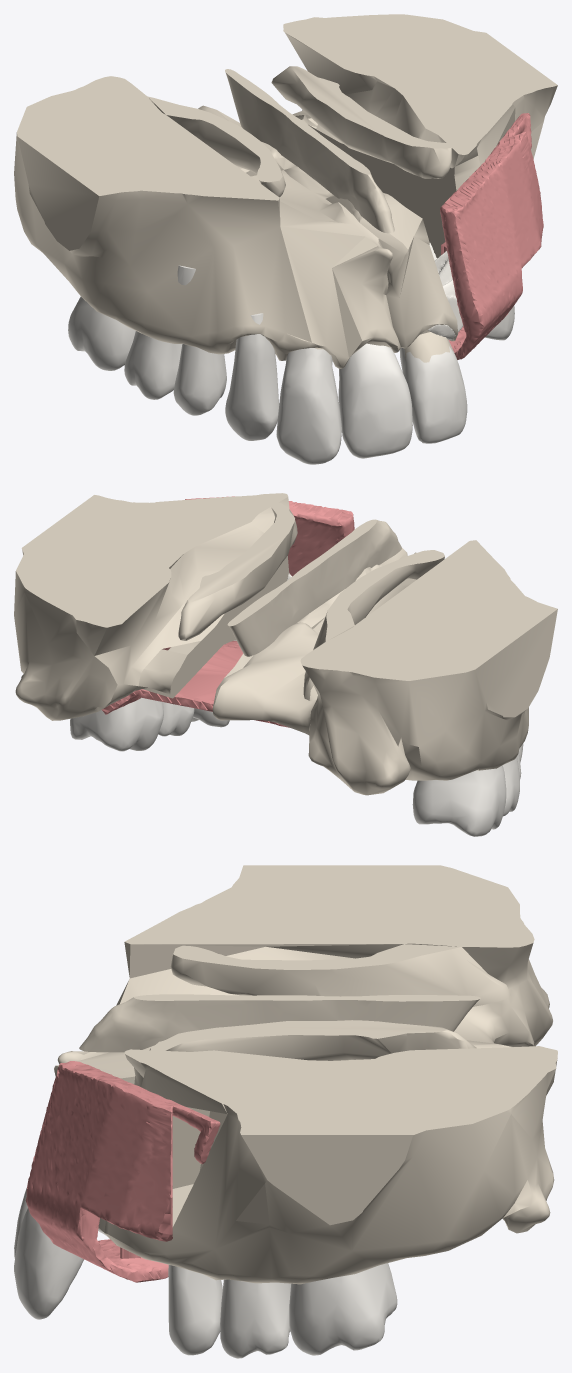
The model's file is abg-short-term.glb.
The picture shows the model from 3 angles, top to bottom: view 1: azimuth 30°, elevation 25°; view 2: azimuth 150°, elevation 25°; view 3: azimuth 270°, elevation 25°; orthographic projection. The views are drawn at different scales.
Visible parts, largest first — view 1: bone, teeth, soft-tissue, graft; view 2: bone, teeth, soft-tissue; view 3: bone, soft-tissue, teeth.
Part boxes in pixels (left/top/right/bottom): bone: left=14, top=14, right=557, bottom=443; teeth: left=68, top=265, right=514, bottom=464; soft-tissue: left=440, top=113, right=543, bottom=359; graft: left=428, top=243, right=463, bottom=340; bone: left=14, top=493, right=557, bottom=795; teeth: left=70, top=697, right=523, bottom=836; soft-tissue: left=102, top=496, right=354, bottom=727; bone: left=14, top=865, right=557, bottom=1319; soft-tissue: left=25, top=1061, right=220, bottom=1282; teeth: left=14, top=1188, right=397, bottom=1358.
Bounding box in the file's own units: 0.0972 × 0.0502 × 0.0828.
